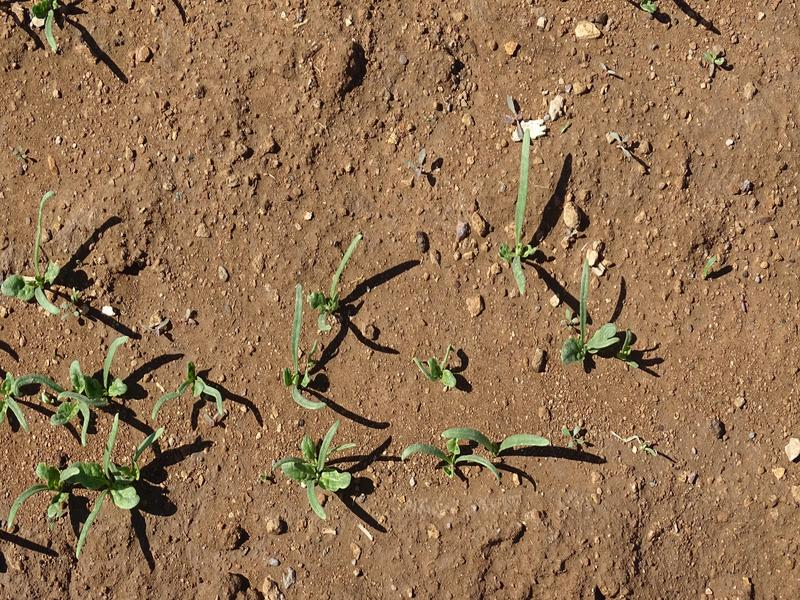Espinaca: (7, 201, 232, 532), (274, 239, 366, 508), (395, 418, 542, 491), (568, 266, 631, 365), (511, 134, 532, 299), (426, 347, 474, 401)
